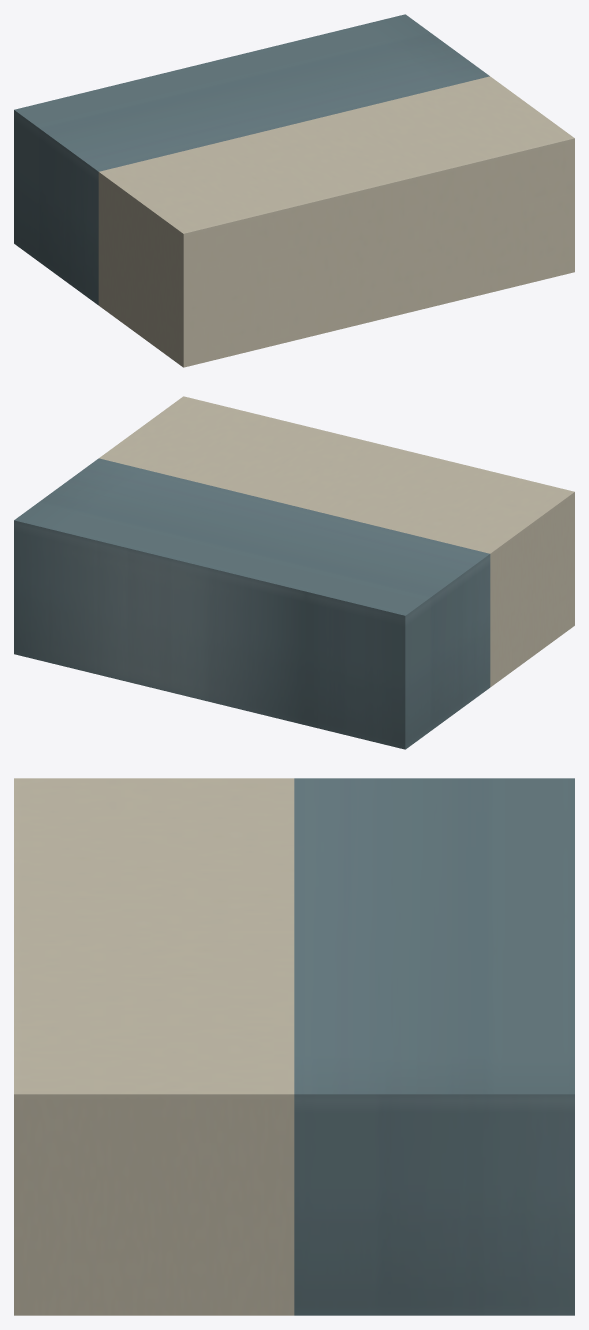
Rendered from set_pillar_01_03_base.fbx.
3 views of the same model, one above another, from view 1: azimuth 30°, elevation 25°; view 2: azimuth 150°, elevation 25°; view 3: azimuth 270°, elevation 25° (orthographic). The views are drawn at different scales.
Parts seen in each view (by area): view 1: set_pillar_01_03_base; view 2: set_pillar_01_03_base; view 3: set_pillar_01_03_base.
Boxes of the visible parts, x1=… form: set_pillar_01_03_base: x1=14, y1=14, x2=574, y2=367; set_pillar_01_03_base: x1=14, y1=396, x2=574, y2=749; set_pillar_01_03_base: x1=14, y1=778, x2=574, y2=1315.
Size of the model in its own units: 60 by 19.6 by 45.
